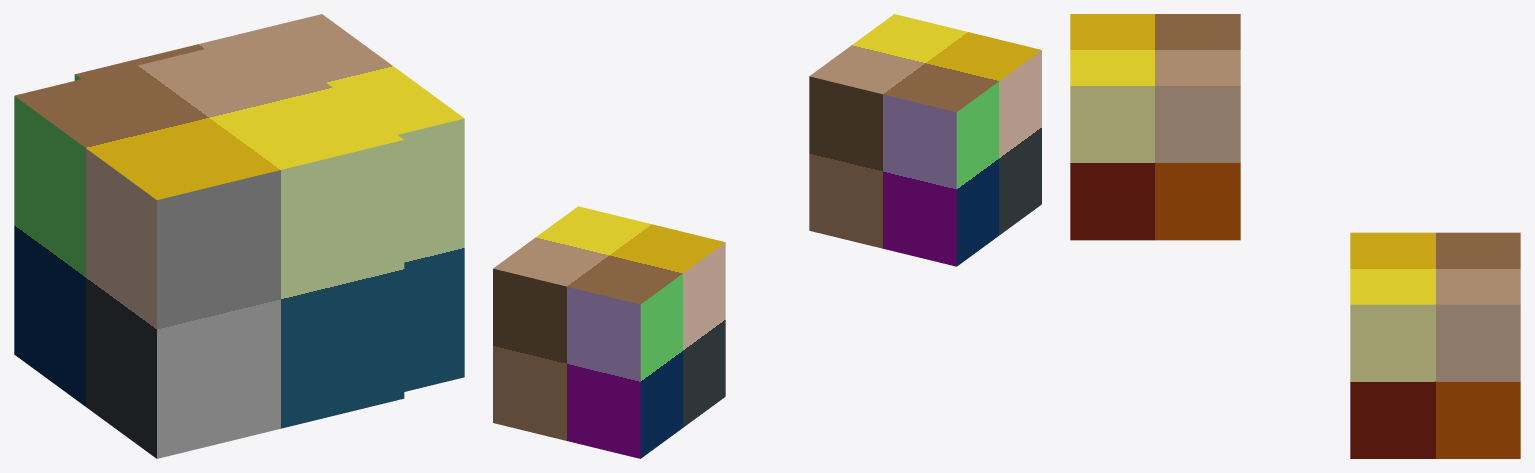
The picture shows the model from 3 angles, left to right: view 1: azimuth 30°, elevation 25°; view 2: azimuth 150°, elevation 25°; view 3: azimuth 270°, elevation 25°; orthographic projection. The views are drawn at different scales.
Parts seen in each view (by area): view 1: Cube, Cube.001; view 2: Cube, Cube.001; view 3: Cube, Cube.001.
Boxes of the visible parts, x1,y1,x2,y2 form: Cube: (14, 35, 404, 458); Cube.001: (74, 14, 464, 391); Cube: (809, 14, 1041, 266); Cube.001: (493, 206, 725, 458); Cube: (1070, 14, 1240, 240); Cube.001: (1350, 232, 1520, 458).
Size of what is drawn, in the model's own units: 4.39 by 3.72 by 5.29.
Materials: 1 (1 with a texture image).
